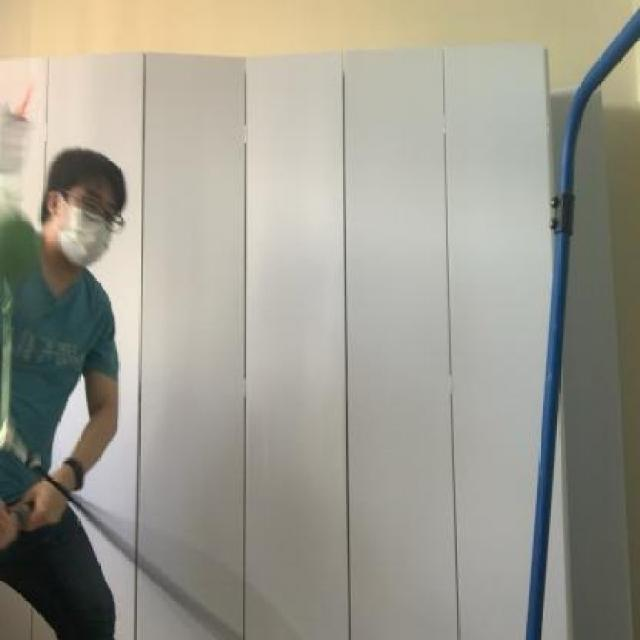baseball: (0, 198, 51, 292)
